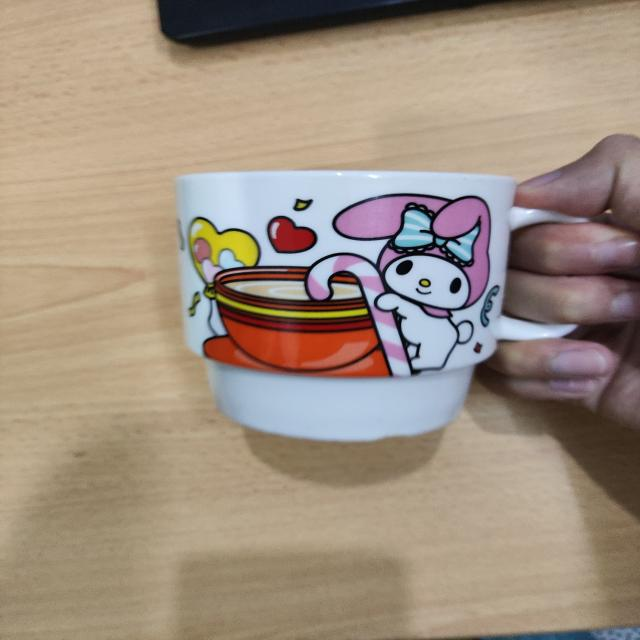cup: (152, 163, 579, 464)
